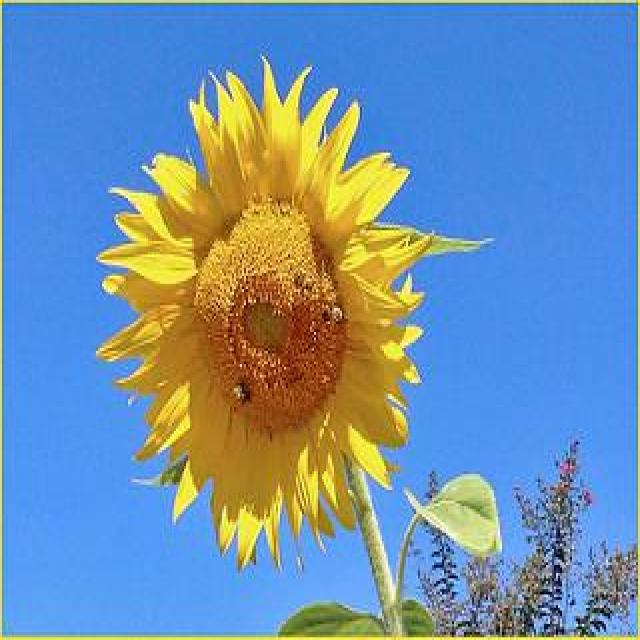sunflower: (97, 59, 481, 568)
